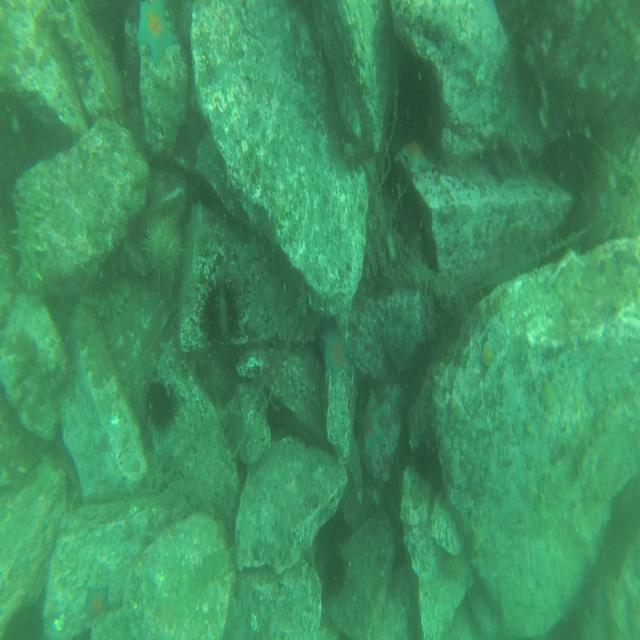echinus: (137, 205, 187, 282), (195, 274, 243, 353), (143, 378, 183, 439)
holothurian: (12, 185, 46, 294), (187, 550, 233, 603), (80, 277, 129, 324)
starfish: (135, 0, 178, 65), (358, 387, 389, 468), (319, 327, 350, 390), (393, 137, 441, 177), (80, 586, 110, 626)
